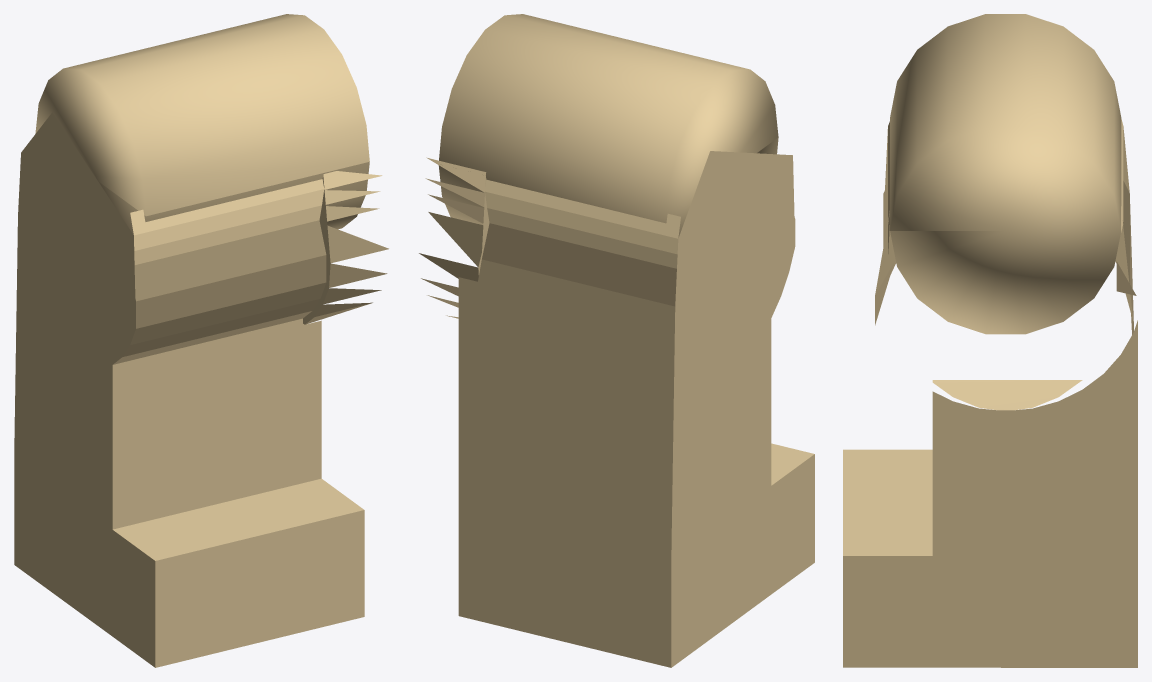
Rendered from legL.glb.
3 renders of one model, left to right at view 1: azimuth 30°, elevation 25°; view 2: azimuth 150°, elevation 25°; view 3: azimuth 270°, elevation 25°, orthographic. The views are drawn at different scales.
Parts seen in each view (by area): view 1: quill_legL; view 2: quill_legL; view 3: quill_legL.
Part boxes in pixels (<box>): quill_legL: <box>14,14,388,667</box>; quill_legL: <box>419,14,814,667</box>; quill_legL: <box>843,14,1137,667</box>.
Size of the model in its own units: 0.3561 by 0.7237 by 0.3488.
